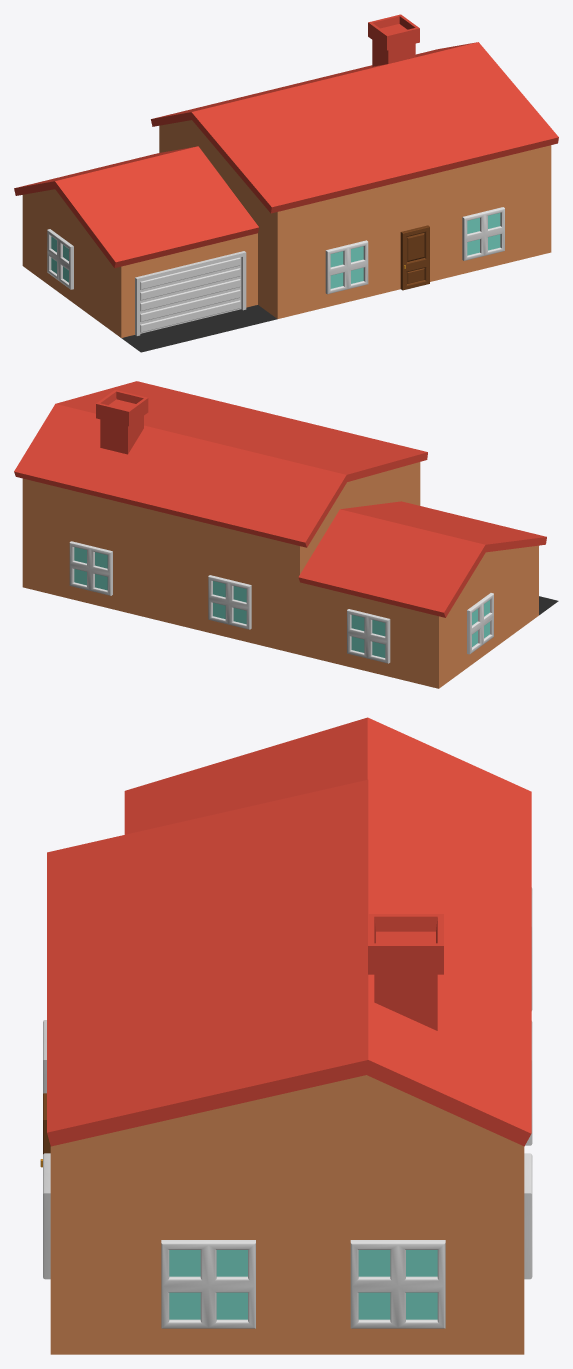
The model's file is home3.fbx.
The picture shows the model from 3 angles, top to bottom: view 1: azimuth 30°, elevation 25°; view 2: azimuth 150°, elevation 25°; view 3: azimuth 270°, elevation 25°; orthographic projection. The views are drawn at different scales.
Visible parts, largest first — view 1: home3; view 2: home3; view 3: home3.
Boxes of the visible parts, x1=… form: home3: x1=14, y1=14, x2=558, y2=352; home3: x1=14, y1=381, x2=558, y2=688; home3: x1=40, y1=717, x2=532, y2=1354.
Size of the model in its own units: 620 by 250 by 311.
